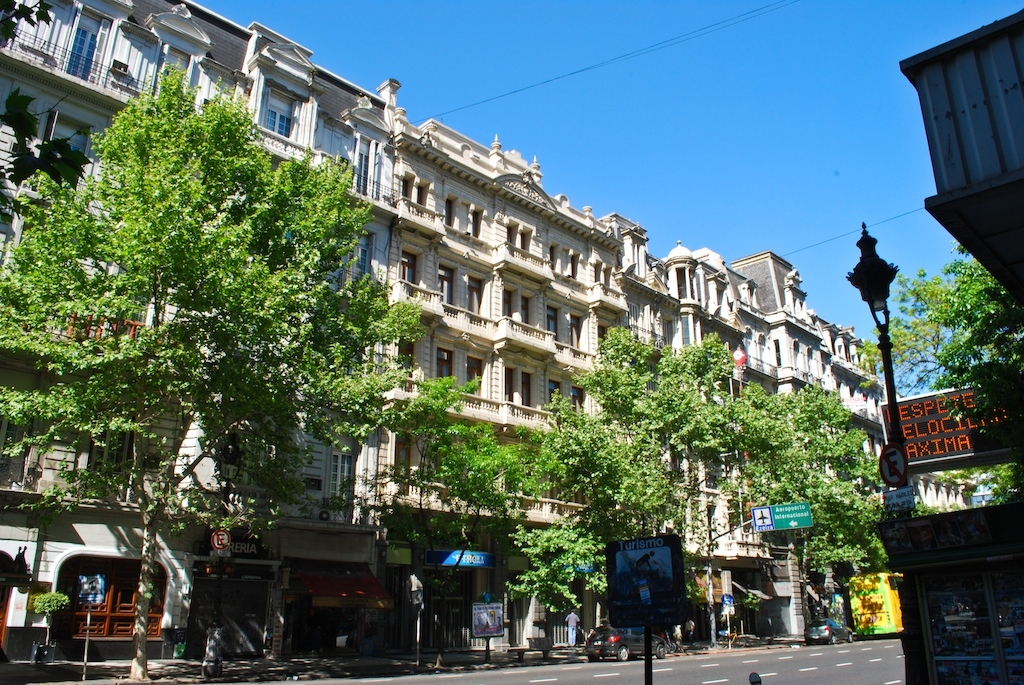Tree: (0, 63, 474, 677), (401, 320, 746, 633), (700, 373, 933, 626), (855, 236, 1022, 523)
